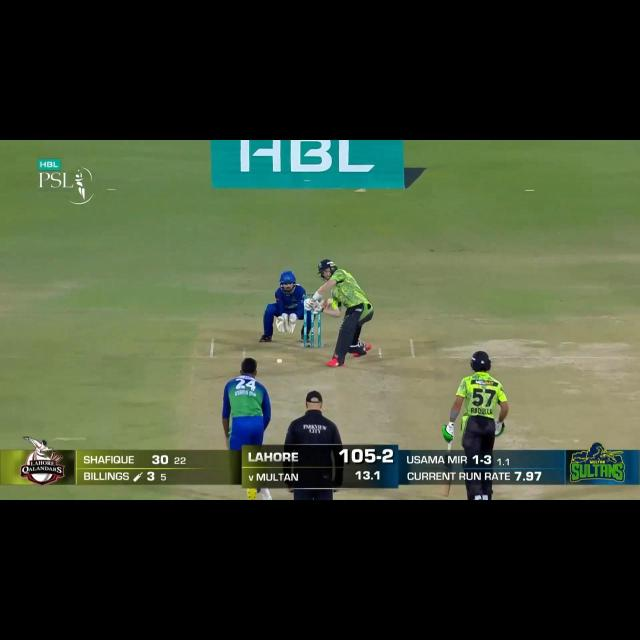bat: (439, 483, 451, 496), (319, 301, 330, 308)
toe: (440, 488, 451, 494)
